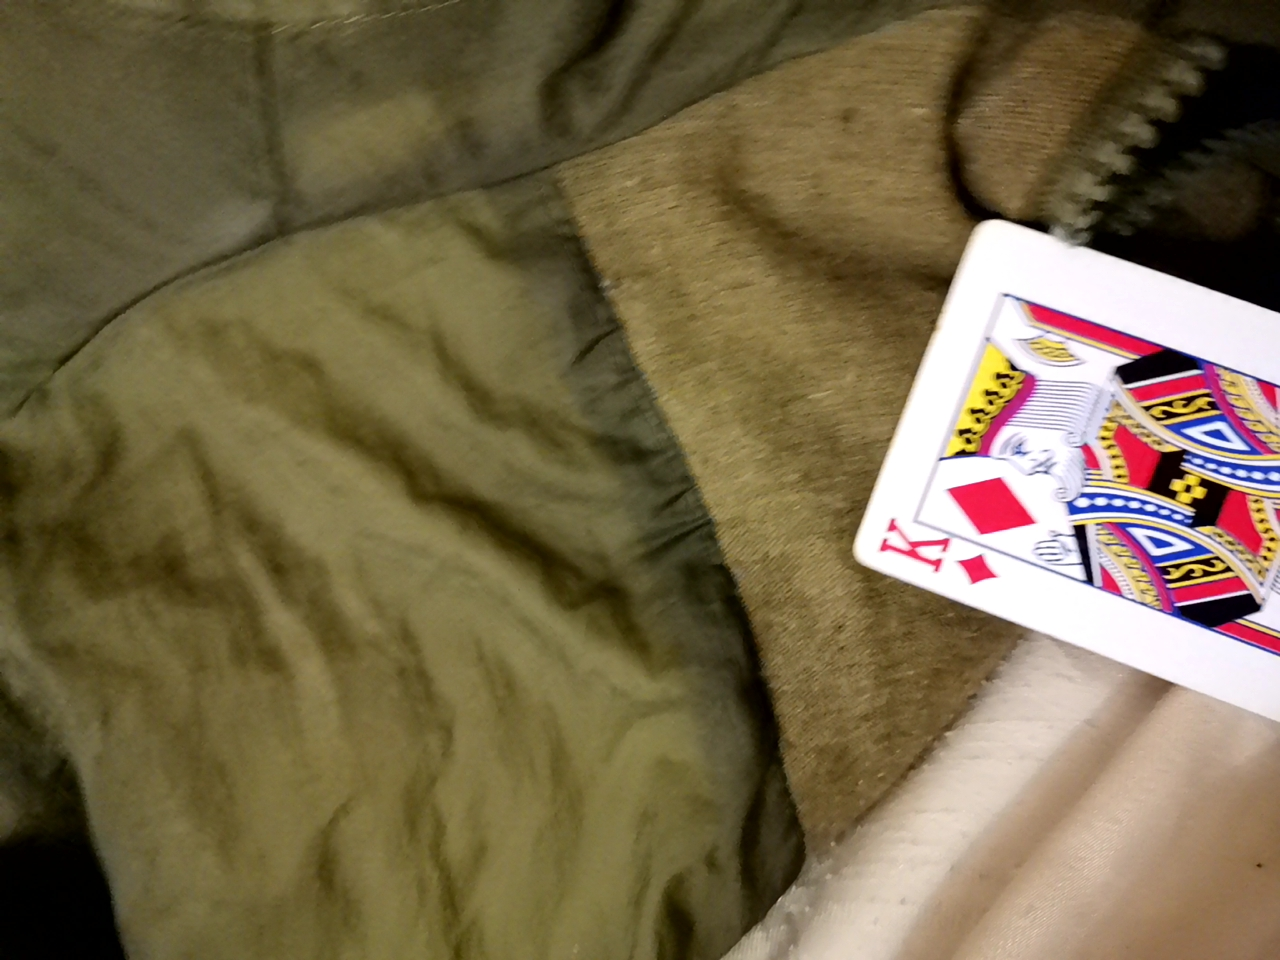fk k: (814, 233, 1280, 761)
